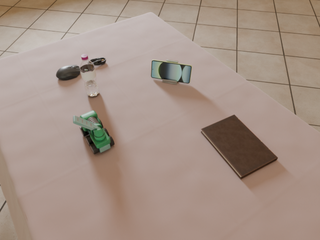book: (201, 115, 278, 179)
bottle: (79, 54, 99, 97)
mouse: (56, 65, 80, 80)
phone: (151, 60, 192, 83)
toy_car: (73, 111, 114, 154)
